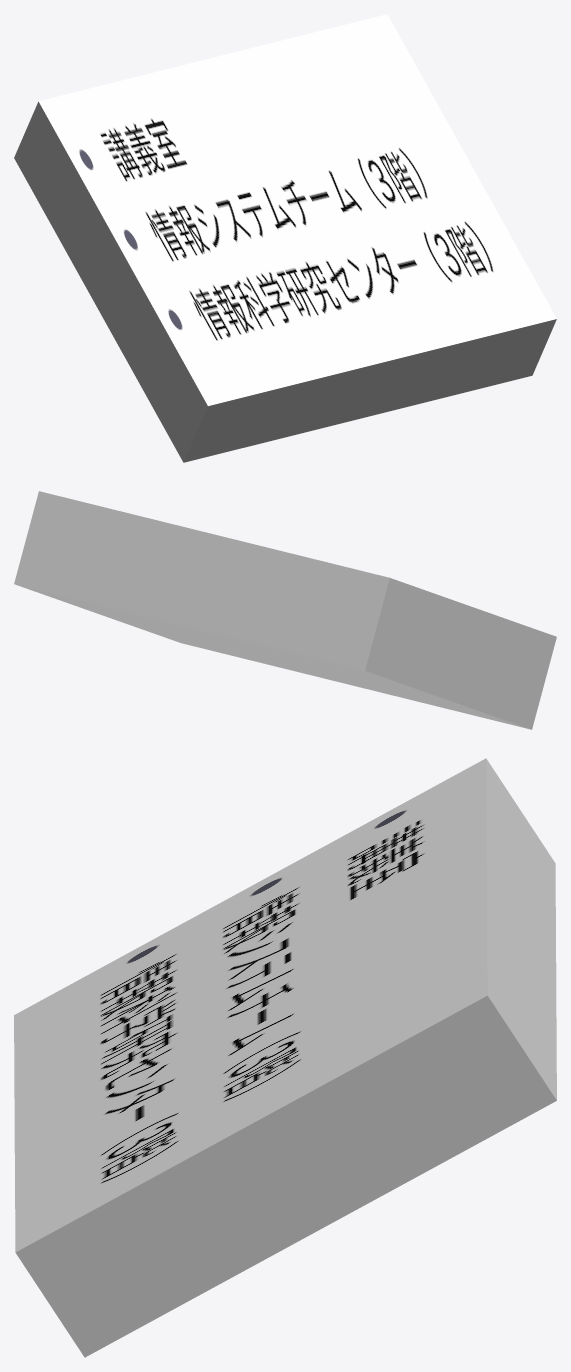
3 views of the same model, one above another, from view 1: azimuth 30°, elevation 25°; view 2: azimuth 150°, elevation 25°; view 3: azimuth 270°, elevation 25° (orthographic). The views are drawn at different scales.
Parts seen in each view (by area): view 1: 立方体; view 2: 立方体; view 3: 立方体.
Part boxes in pixels (x1,y1,x2,y2): 立方体: (14, 14, 556, 462); 立方体: (14, 491, 556, 729); 立方体: (14, 758, 556, 1357).
Size of the model in its own units: 0.5038 by 0.3546 by 0.4803.
Materials: 2 (1 with a texture image).
